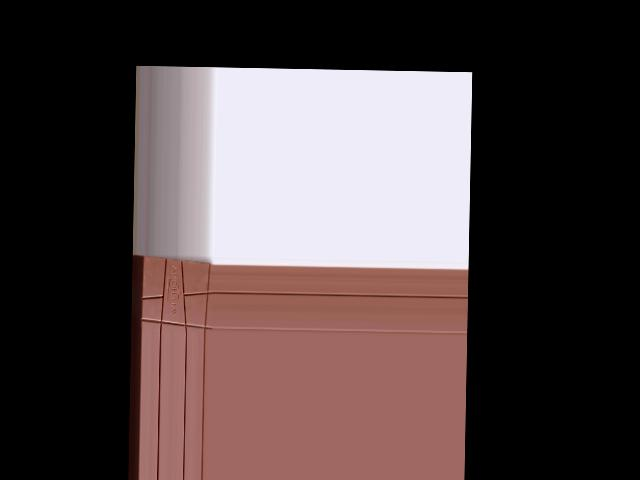chocolate: (137, 253, 213, 333)
